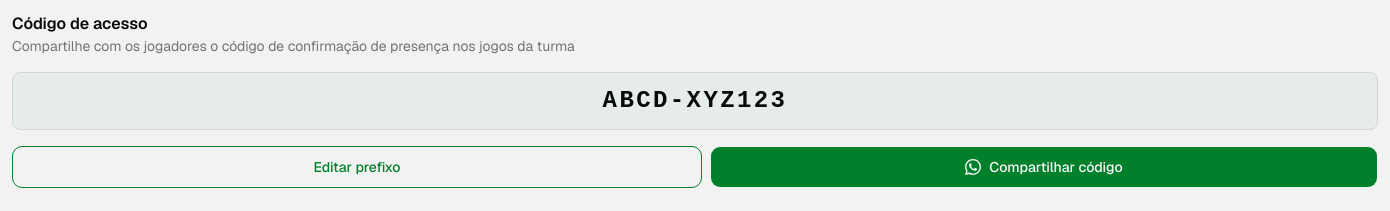
Scenario: AccessCodeCard › edit prefix mode › enters edit mode when 'Editar prefixo' is clicked
The width and height of the screenshot is (1390, 211).
Click the button "Editar prefixo".
click(357, 167)  # box left=12, top=146, right=702, bottom=188
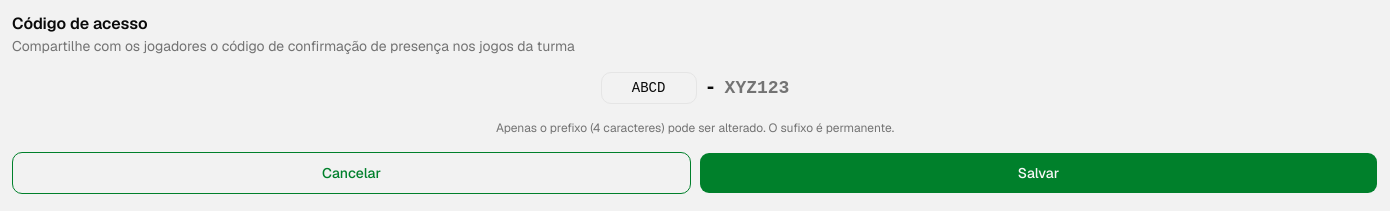
Expected: the button "Salvar" is shown, left=699, top=152, right=1378, bottom=194
Expected: the button "Cancelar" is shown, left=12, top=152, right=691, bottom=194
